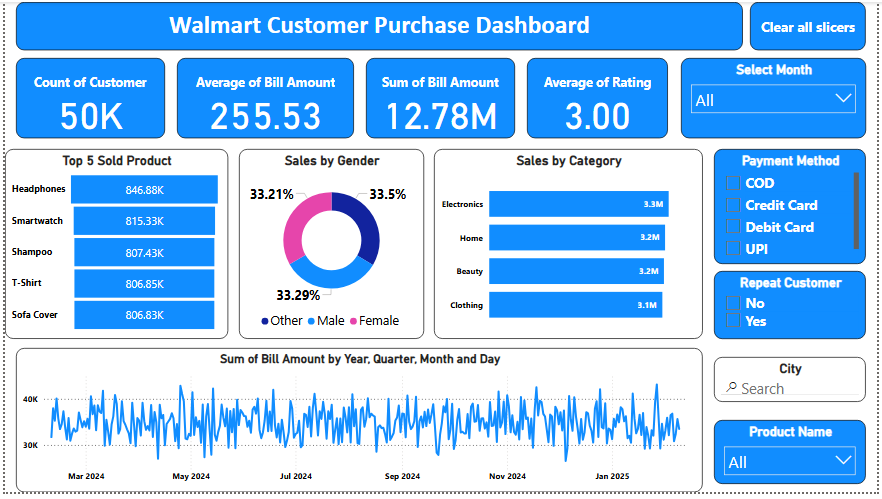

What the dashboard file says about the page in this screenshot:
{"tool":"powerbi","page":{"name":"Page 1","canvas":[1280,720],"ordinal":0},"visuals":[{"type":"cardVisual","fields":{"Data":["Count(Walmart_customer_purchases.Customer_ID)"]},"box":[16.2,82.3,218.9,117.6],"z":0},{"type":"cardVisual","fields":{"Data":["Sum(Walmart_customer_purchases.Bill Amount)"]},"box":[530.4,82.3,218.9,117.6],"z":1000},{"type":"cardVisual","fields":{"Data":["Avg(Walmart_customer_purchases.Rating)"]},"box":[767,82.3,207.2,117.6],"z":2000},{"type":"clusteredBarChart","title":"Sales by Category","fields":{"Category":["Walmart_customer_purchases.Category"],"Y":["Sum(Walmart_customer_purchases.Bill Amount)"]},"box":[630.4,216,395.3,279.2],"z":3000},{"type":"donutChart","title":"Sales by Gender","fields":{"Category":["Walmart_customer_purchases.Gender"],"Y":["CountNonNull(Walmart_customer_purchases.Customer_ID)"]},"box":[343.8,216,271.8,279.2],"z":4000},{"type":"lineChart","fields":{"Y":["Sum(Walmart_customer_purchases.Bill Amount)"],"Category":["Walmart_customer_purchases.Purchase_Date.Variation.Date Hierarchy.Year","Walmart_customer_purchases.Purchase_Date.Variation.Date Hierarchy.Quarter","Walmart_customer_purchases.Purchase_Date.Variation.Date Hierarchy.Month","Walmart_customer_purchases.Purchase_Date.Variation.Date Hierarchy.Day"]},"box":[16.2,508.4,1009.5,211.6],"z":5000},{"type":"slicer","title":"Product Name","fields":{"Values":["Walmart_customer_purchases.Product_Name"]},"box":[1041.8,614.2,223.3,94],"z":6000},{"type":"cardVisual","fields":{"Data":["Avg(Walmart_customer_purchases.Bill Amount)"]},"box":[252.7,82.3,260.1,117.6],"z":7000},{"type":"textbox","box":[16.2,0,1068.2,70.5],"z":8000},{"type":"actionButton","box":[1094.7,0,170.4,70.5],"z":10000},{"type":"funnel","title":"Top 5 Sold Product","fields":{"Category":["Walmart_customer_purchases.Product_Name"],"Y":["Sum(Walmart_customer_purchases.Bill Amount)"]},"box":[0,216,327.7,279.2],"z":11000},{"type":"slicer","title":"Repeat Customer","fields":{"Values":["Walmart_customer_purchases.Repeat_Customer"]},"box":[1041.8,395.3,223.3,99.9],"z":12000},{"type":"slicer","title":"Payment Method","fields":{"Values":["Walmart_customer_purchases.Payment_Method"]},"box":[1041.8,216,223.3,169],"z":13000},{"type":"slicer","title":"Select Month","fields":{"Values":["Walmart_customer_purchases.Purchase_Date.Variation.Date Hierarchy.Month"]},"box":[993.3,82.3,271.8,117.6],"z":14000},{"type":"slicer","title":"City","fields":{"Values":["Walmart_customer_purchases.City"]},"box":[1041.8,521.6,223.3,66.1],"z":14001}]}

Visuals, with their boxes in screenshot pixels (x1, y1, x2, y2), scaled from the page's 1280x720 canvas onto the 882x499 screenshot:
cardVisual - Count(Walmart_customer_purchases.Customer_ID): box=[11, 57, 162, 139]
cardVisual - Sum(Walmart_customer_purchases.Bill Amount): box=[365, 57, 516, 139]
cardVisual - Avg(Walmart_customer_purchases.Rating): box=[529, 57, 671, 139]
"Sales by Category" clusteredBarChart: box=[434, 150, 707, 343]
"Sales by Gender" donutChart: box=[237, 150, 424, 343]
lineChart - Sum(Walmart_customer_purchases.Bill Amount) x Walmart_customer_purchases.Purchase_Date.Variation.Date Hierarchy.Year: box=[11, 352, 707, 498]
"Product Name" slicer: box=[718, 426, 872, 491]
cardVisual - Avg(Walmart_customer_purchases.Bill Amount): box=[174, 57, 353, 139]
textbox: box=[11, 0, 747, 49]
actionButton: box=[754, 0, 872, 49]
"Top 5 Sold Product" funnel: box=[0, 150, 226, 343]
"Repeat Customer" slicer: box=[718, 274, 872, 343]
"Payment Method" slicer: box=[718, 150, 872, 267]
"Select Month" slicer: box=[684, 57, 872, 139]
"City" slicer: box=[718, 361, 872, 407]
